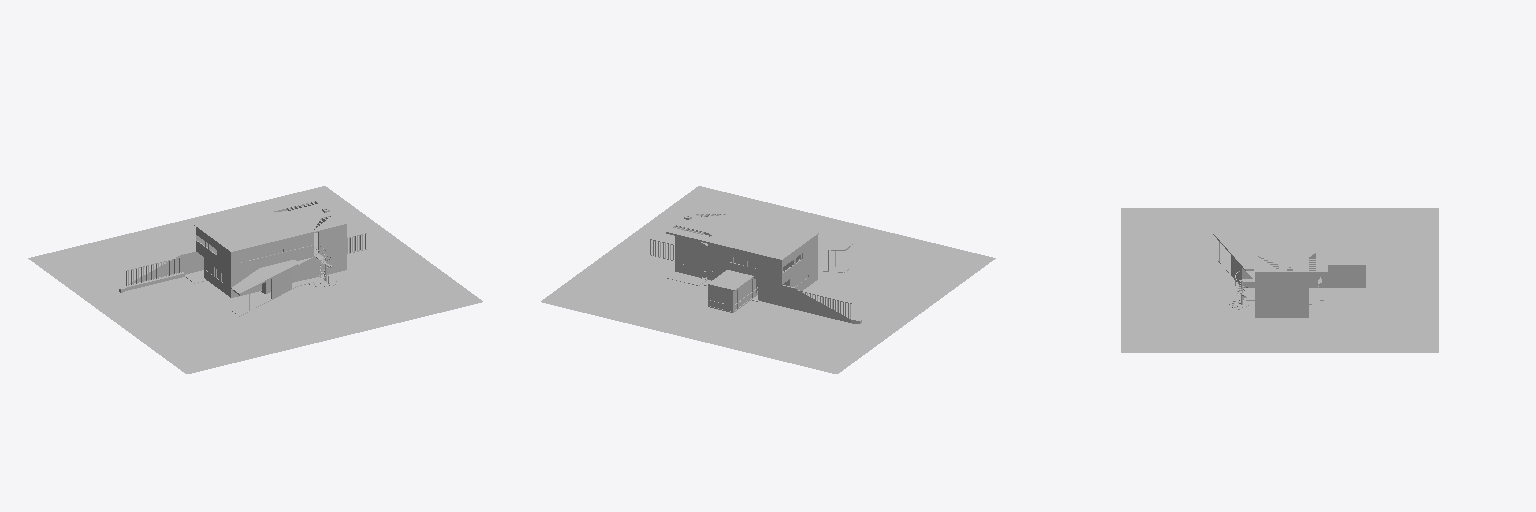
File: gropius_house.obj
3 renders of one model, left to right at view 1: azimuth 30°, elevation 25°; view 2: azimuth 150°, elevation 25°; view 3: azimuth 270°, elevation 25°, orthographic.
Visible parts, largest first — view 1: Mesh383 Model, Mesh384 Model, Mesh1 Group1 Model; view 2: Mesh383 Model, Mesh384 Model, Mesh1 Group1 Model; view 3: Mesh383 Model, Mesh384 Model, Mesh1 Group1 Model.
Boxes of the visible parts, x1=… form: Mesh383 Model: x1=28, y1=186, x2=482, y2=373; Mesh384 Model: x1=119, y1=219, x2=366, y2=316; Mesh1 Group1 Model: x1=194, y1=197, x2=347, y2=253; Mesh383 Model: x1=541, y1=186, x2=995, y2=373; Mesh384 Model: x1=649, y1=214, x2=861, y2=323; Mesh1 Group1 Model: x1=665, y1=205, x2=818, y2=261; Mesh383 Model: x1=1121, y1=208, x2=1438, y2=352; Mesh384 Model: x1=1212, y1=232, x2=1365, y2=335; Mesh1 Group1 Model: x1=1254, y1=215, x2=1327, y2=273.
Size of the model in its own units: 1525 by 241 by 1412.